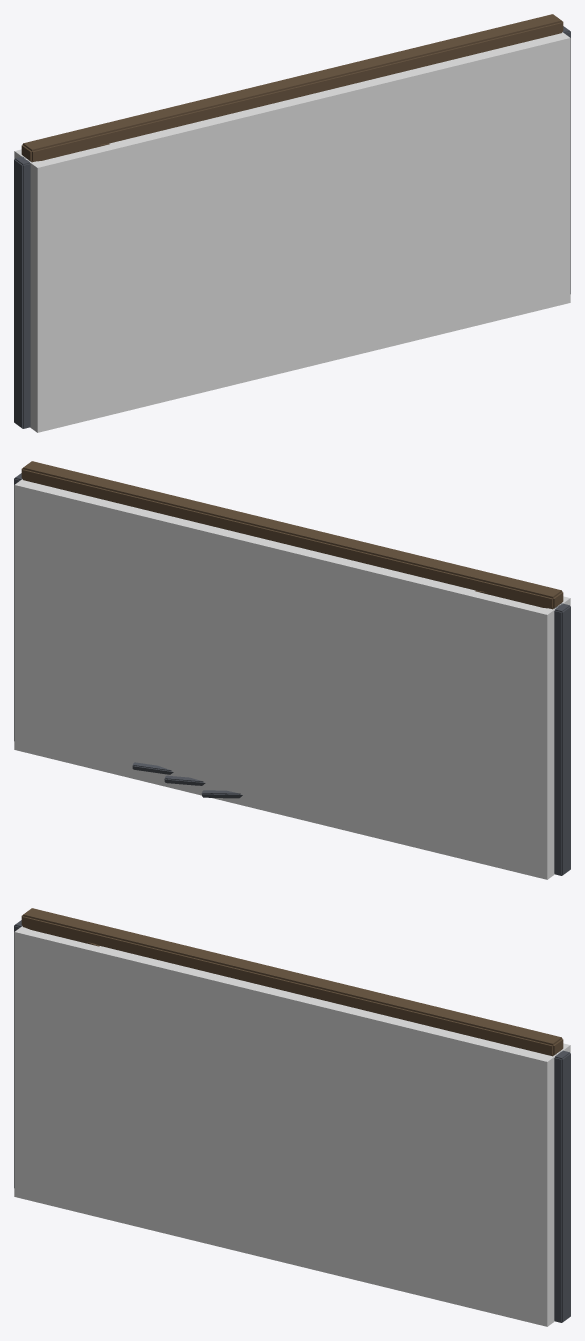
Rendered from railing_stairs.glb.
3 renders of one model, top to bottom at view 1: azimuth 30°, elevation 25°; view 2: azimuth 150°, elevation 25°; view 3: azimuth 330°, elevation 25°, orthographic.
Visible parts, largest first — view 1: railing-convcol, ok_mesh, broken_mesh; view 2: railing-convcol, ok_mesh, broken_mesh; view 3: railing-convcol, ok_mesh, broken_mesh.
Part boxes in pixels (bbox=[...]): railing-convcol: bbox=[14, 32, 570, 432]; ok_mesh: bbox=[21, 14, 563, 162]; broken_mesh: bbox=[14, 26, 570, 428]; railing-convcol: bbox=[14, 479, 570, 879]; ok_mesh: bbox=[21, 461, 563, 609]; broken_mesh: bbox=[14, 473, 570, 875]; railing-convcol: bbox=[14, 926, 570, 1326]; ok_mesh: bbox=[21, 908, 563, 1056]; broken_mesh: bbox=[14, 916, 570, 1322].
Size of the model in its own units: 2.06 by 0.995 by 0.1854.
